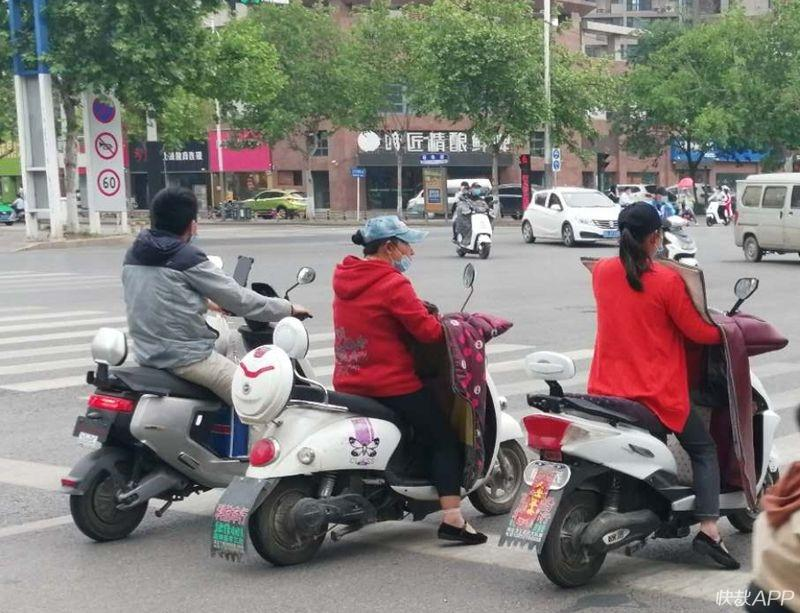target: (214, 217, 523, 571), (504, 201, 786, 582), (60, 182, 317, 543)
